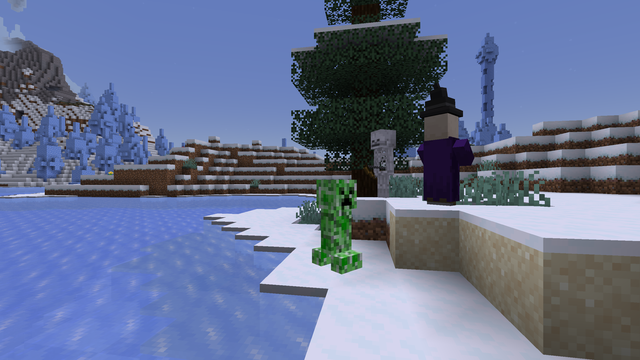creepers: (316, 175, 353, 279)
sorcieres: (422, 108, 462, 212)
squelettes: (372, 129, 395, 202)
